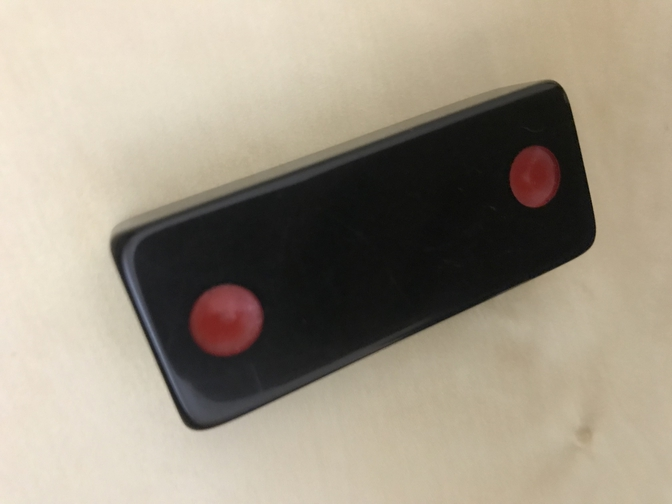earth: (109, 80, 596, 432)
